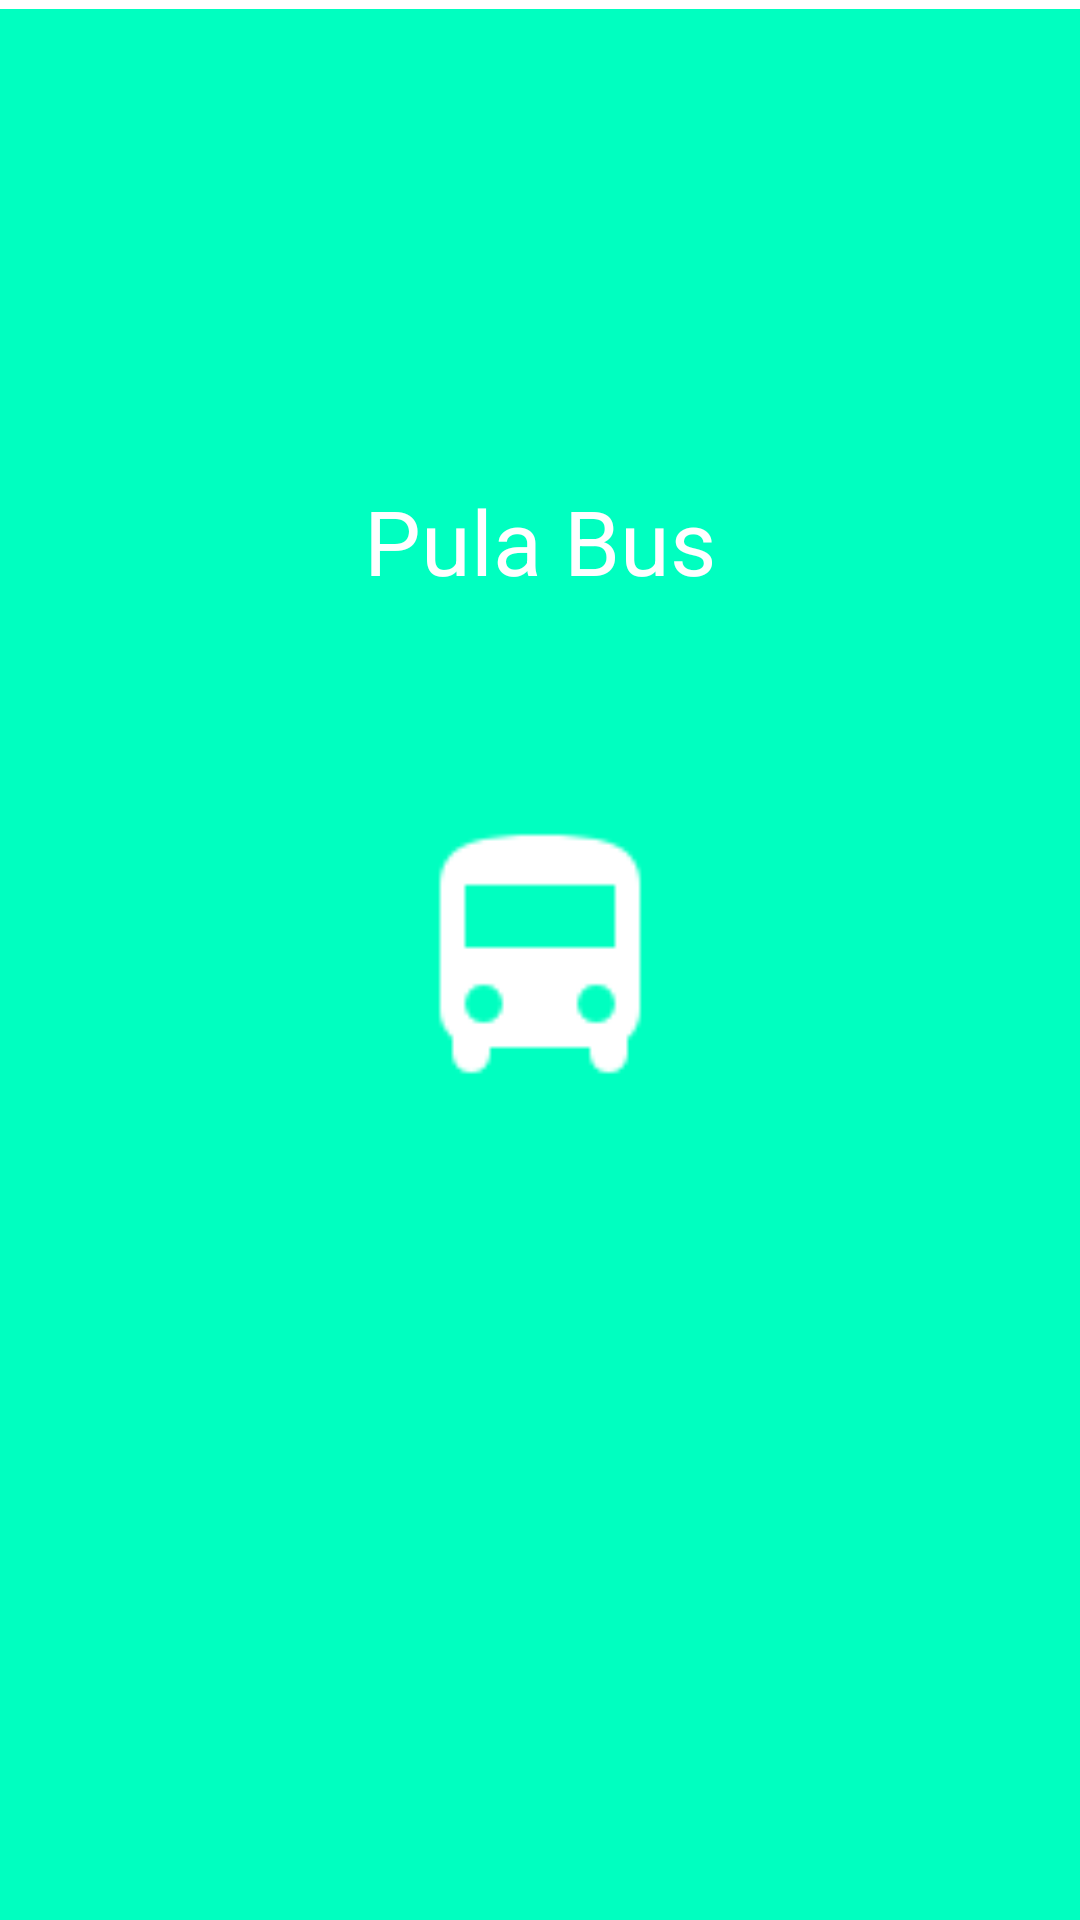

Icons on this 1080w x 1920h Android screen, each with the point to tap as (x=x, y=y):
directions bus: (x=540, y=953)
